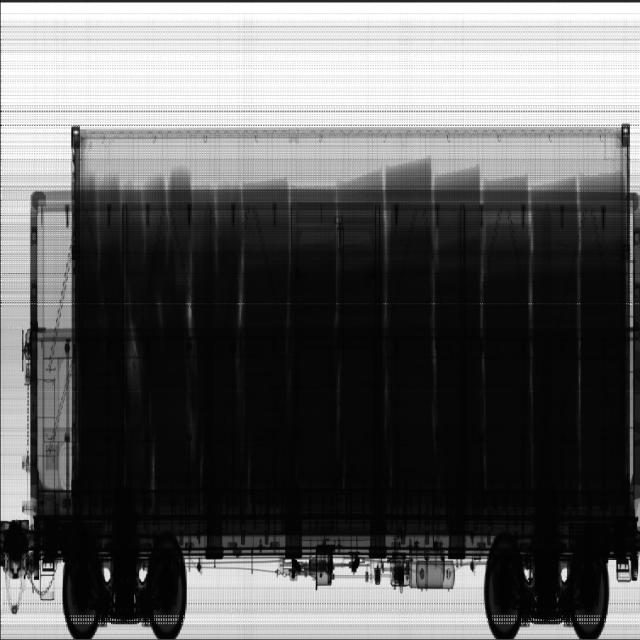fabrics: (78, 158, 623, 512)
